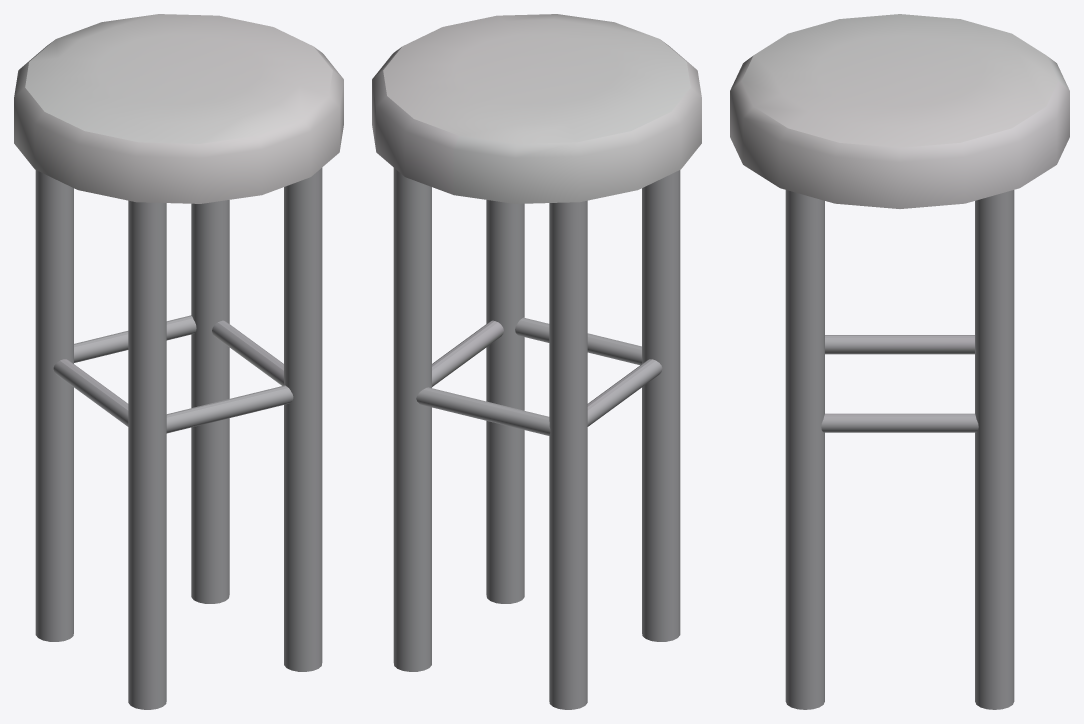
The model's file is foodRoomChairfbx.fbx.
The picture shows the model from 3 angles, left to right: view 1: azimuth 30°, elevation 25°; view 2: azimuth 150°, elevation 25°; view 3: azimuth 270°, elevation 25°; orthographic projection. The views are drawn at different scales.
Visible parts, largest first — view 1: chair; view 2: chair; view 3: chair.
Part boxes in pixels (box(x1,y1,x2,y2)): chair: box(14, 14, 343, 709); chair: box(372, 14, 701, 709); chair: box(730, 14, 1069, 709).
Size of the model in its own units: 1212 by 2329 by 1212.
